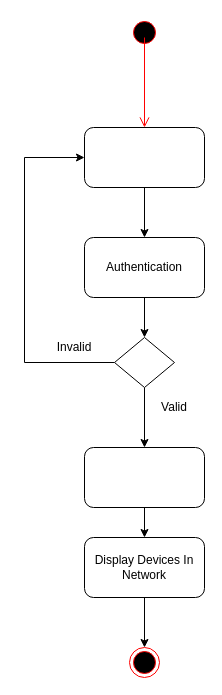
The diagram is 222 pixels wide and 695 high, and some of its shapes have lost their labels. The shapes that lost their labels are listed below. From the top down, each one's centre as x and y in pixels, then its label:
At (144,157): "Admin Login".
At (144,477): "SNMP To discover Devices".
